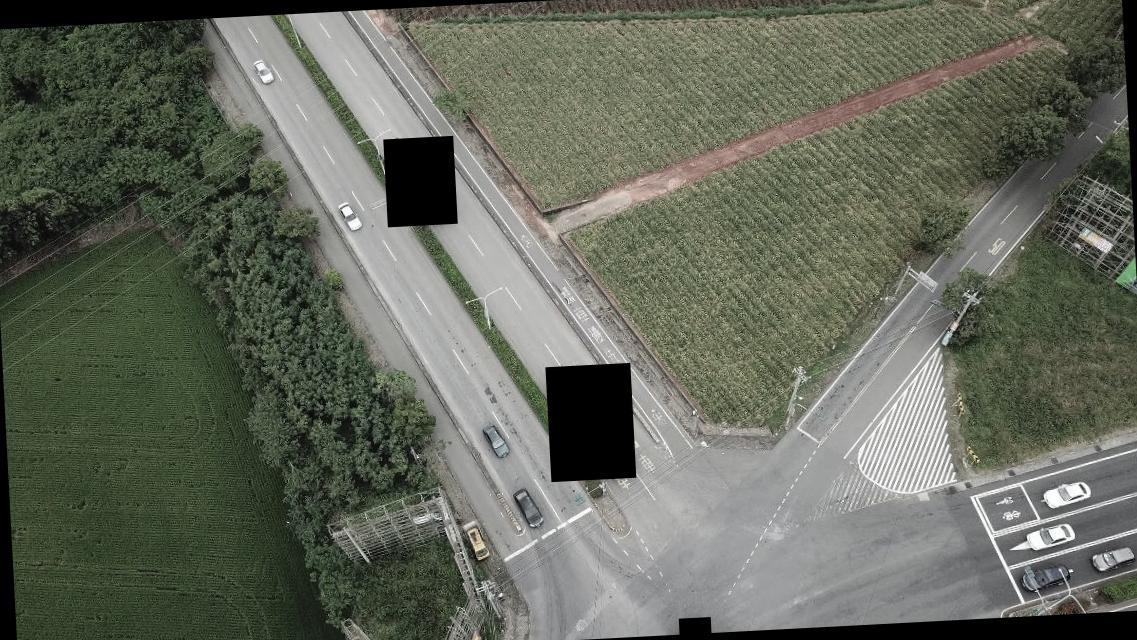vehicle: (1021, 563, 1070, 594), (1026, 522, 1074, 550), (1044, 480, 1090, 509), (514, 486, 543, 529), (1092, 547, 1136, 572), (482, 424, 510, 459), (338, 200, 362, 233), (466, 526, 488, 562), (254, 60, 274, 84)
